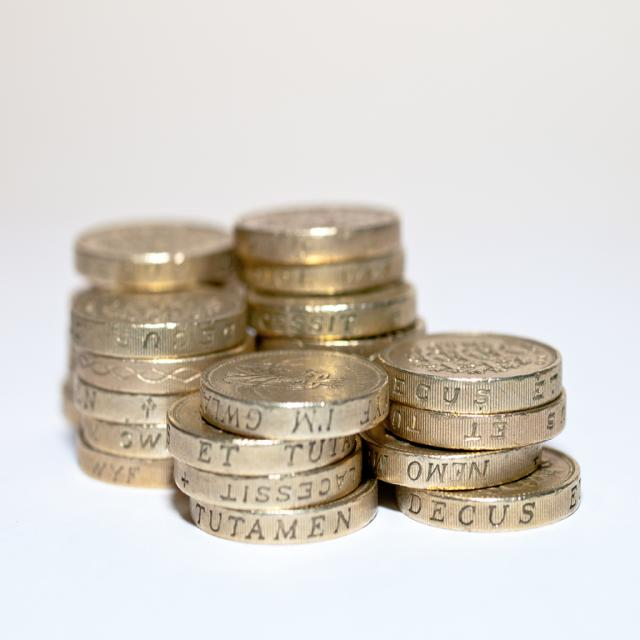Coin: (200, 344, 391, 441), (161, 386, 361, 477), (392, 448, 588, 533), (372, 329, 564, 415), (170, 439, 367, 514), (68, 280, 250, 361), (186, 471, 384, 545), (68, 324, 260, 398), (383, 379, 567, 447), (373, 419, 544, 492), (68, 222, 240, 291), (248, 268, 417, 333), (234, 201, 404, 265), (240, 234, 404, 293), (254, 311, 428, 354), (72, 425, 176, 490), (60, 374, 188, 418), (77, 414, 172, 465)
